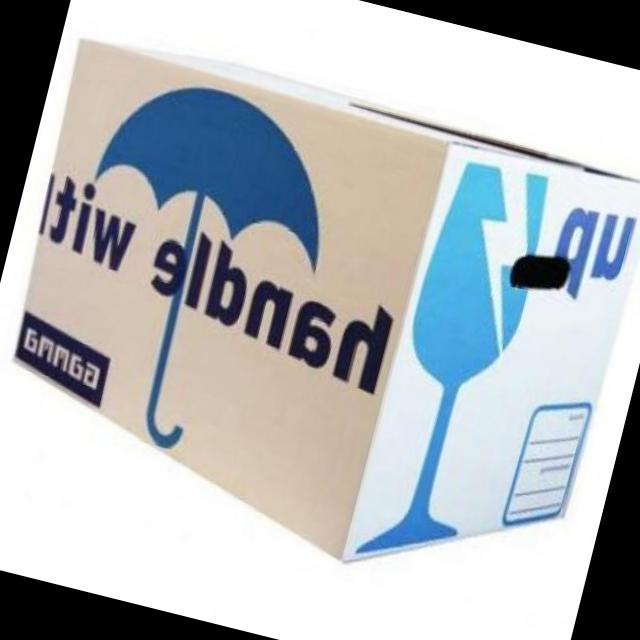box: (0, 19, 640, 620)
